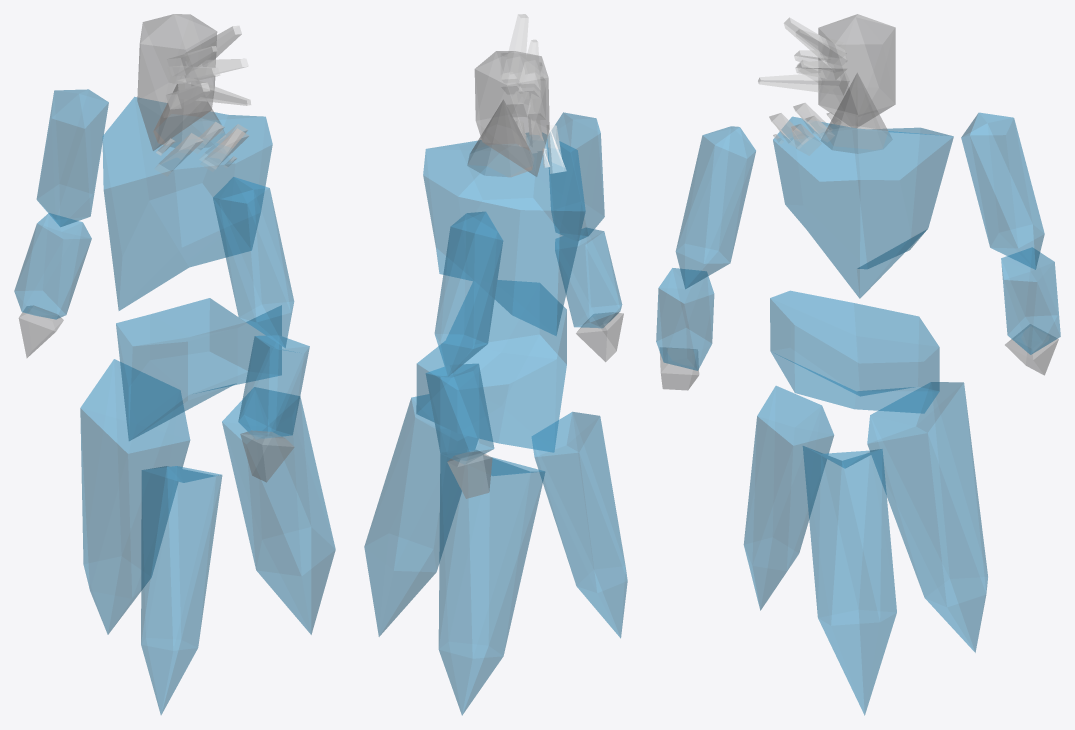
File: ghostIdle33.obj
3 renders of one model, left to right at view 1: azimuth 30°, elevation 25°; view 2: azimuth 150°, elevation 25°; view 3: azimuth 270°, elevation 25°, orthographic. The views are drawn at different scales.
Parts seen in each view (by area): view 1: Cube.001_Cube.001, Icosphere.005, Icosphere.004, Cube_Cube.002, Icosphere.003, Icosphere.005_Icosphere.001, Icosphere.003_Icosphere.001, Icosphere.007_Icosphere.001, Icosphere.008_Icosphere.001, Icosphere.006_Icosphere.001, Cone_Cone.002, Cube.002_Cube.001 (+8 smaller); view 2: Cube.001_Cube.001, Cube_Cube.002, Icosphere.005, Icosphere.004, Icosphere.003, Icosphere.007_Icosphere.001, Icosphere.003_Icosphere.001, Icosphere.005_Icosphere.001, Icosphere.008_Icosphere.001, Icosphere.006_Icosphere.001, Cone_Cone.002, Cube.003_Cube.001 (+5 smaller); view 3: Cube.001_Cube.001, Icosphere.005, Icosphere.004, Cube_Cube.002, Icosphere.003, Icosphere.005_Icosphere.001, Icosphere.007_Icosphere.001, Icosphere.003_Icosphere.001, Icosphere.006_Icosphere.001, Icosphere.008_Icosphere.001, Cone_Cone.002, Cube.003_Cube.001 (+4 smaller).
Part boxes in pixels (x1,y1,x2,y2): Cube.001_Cube.001: (102,97,272,310); Icosphere.005: (80,359,190,634); Icosphere.004: (222,387,335,634); Cube_Cube.002: (116,298,281,440); Icosphere.003: (141,466,222,714); Icosphere.005_Icosphere.001: (213,177,294,347); Icosphere.003_Icosphere.001: (137,14,217,150); Icosphere.007_Icosphere.001: (36,89,108,226); Icosphere.008_Icosphere.001: (14,213,91,319); Icosphere.006_Icosphere.001: (238,335,309,439); Cone_Cone.002: (153,84,225,148); Cube.002_Cube.001: (240,430,294,482); Cube.001_Cube.001: (423,133,585,335); Cube_Cube.002: (416,280,566,452); Icosphere.005: (438,449,545,715); Icosphere.004: (364,394,477,636); Icosphere.003: (532,412,627,638); Icosphere.007_Icosphere.001: (434,211,503,376); Icosphere.003_Icosphere.001: (474,51,549,176); Icosphere.005_Icosphere.001: (548,112,604,240); Icosphere.008_Icosphere.001: (425,363,494,464); Icosphere.006_Icosphere.001: (555,228,622,327); Cone_Cone.002: (467,100,532,177); Cube.003_Cube.001: (447,450,492,498); Cube.001_Cube.001: (773,116,953,298); Icosphere.005: (867,382,987,652); Icosphere.004: (802,446,896,715); Cube_Cube.002: (770,290,939,413); Icosphere.003: (743,386,833,610); Icosphere.005_Icosphere.001: (675,126,755,288); Icosphere.007_Icosphere.001: (961,112,1044,269); Icosphere.003_Icosphere.001: (818,14,895,127); Icosphere.006_Icosphere.001: (656,268,714,370); Icosphere.008_Icosphere.001: (1001,247,1060,354); Cone_Cone.002: (821,73,892,153); Cube.003_Cube.001: (1005,324,1058,375).
Size of the model in its own units: 16.92 by 48.13 by 27.19.
